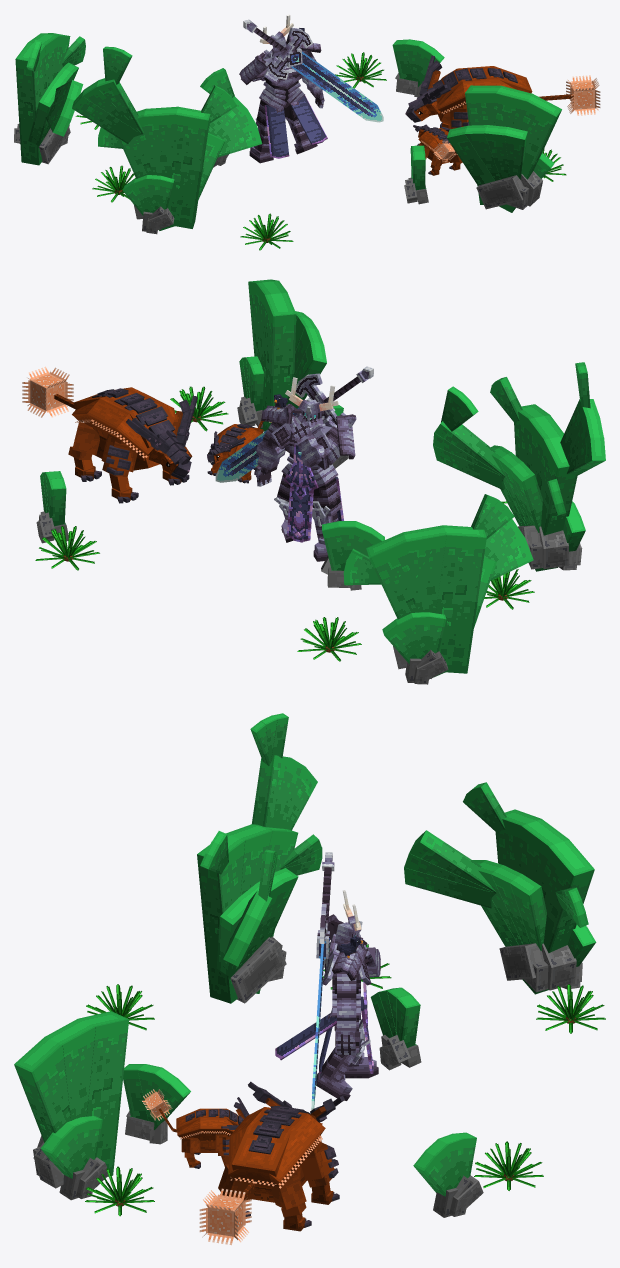
File: evershapes_scene2.gltf
3 renders of one model, top to bottom at view 1: azimuth 30°, elevation 25°; view 2: azimuth 150°, elevation 25°; view 3: azimuth 270°, elevation 25°, orthographic. The views are drawn at different scales.
Visible parts, largest first — view 1: cube (×41); view 2: cube (×33); view 3: cube (×31).
Part boxes in pixels (x1,y1,x2,y2): cube (×41): (15, 29, 594, 230); cube (×33): (30, 279, 605, 677); cube (×31): (14, 755, 594, 1236).
Bounding box in the file's own units: 20.88 × 7.37 × 15.51.
5 materials, 5 textured.
